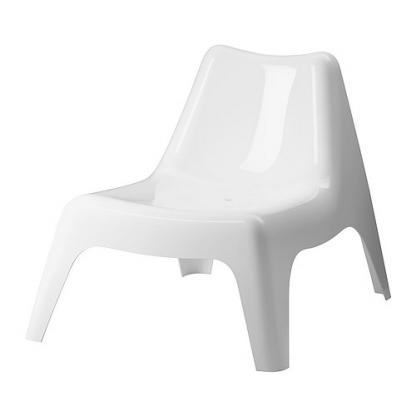Chair: (23, 42, 393, 374)
